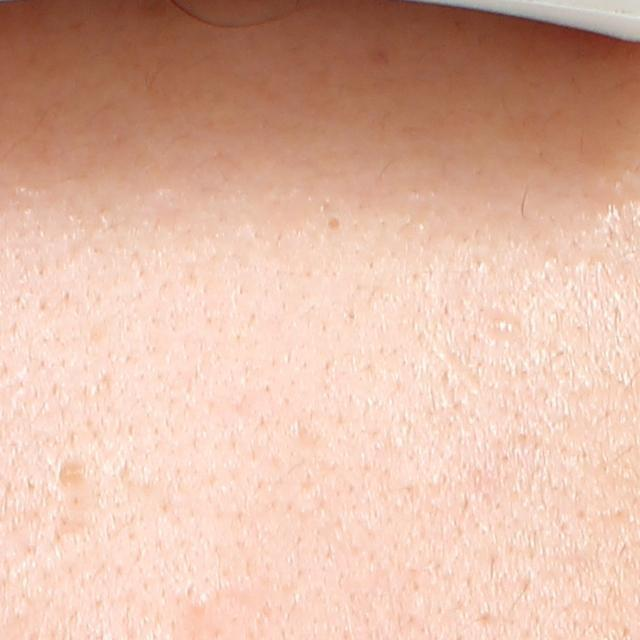comedo: (489, 311, 519, 338), (56, 459, 85, 486), (324, 214, 346, 235)
